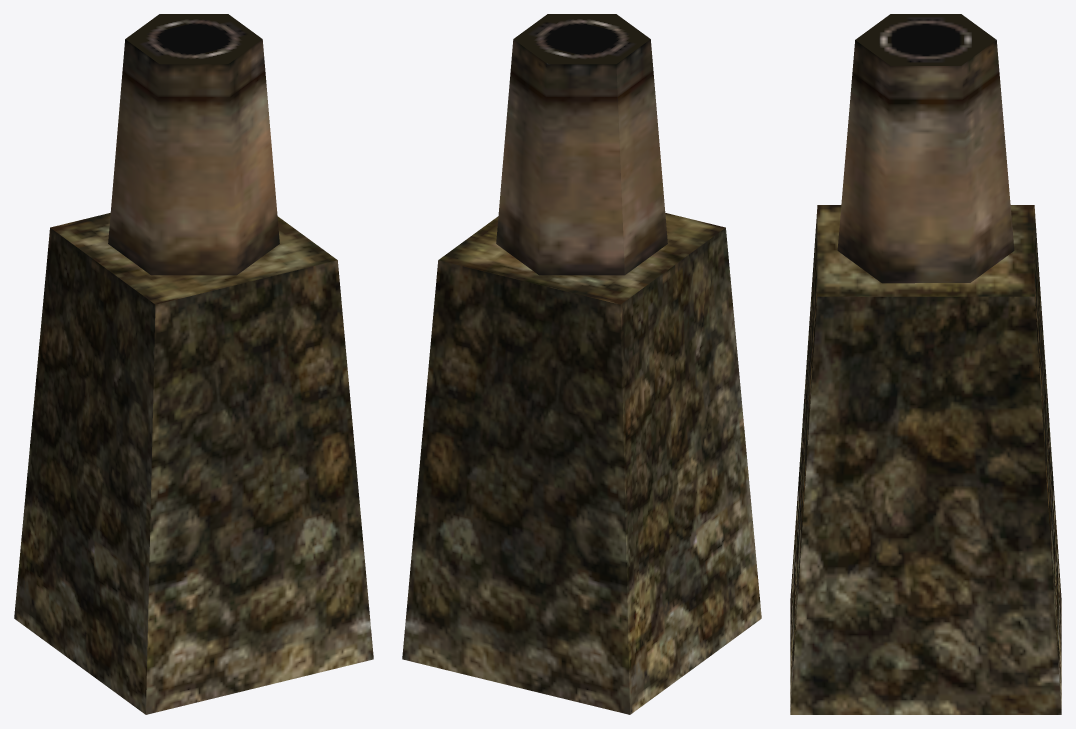
The model's file is hrz91.glb.
3 renders of one model, left to right at view 1: azimuth 30°, elevation 25°; view 2: azimuth 150°, elevation 25°; view 3: azimuth 270°, elevation 25°, orthographic. The views are drawn at different scales.
Parts seen in each view (by area): view 1: hrz91-col; view 2: hrz91-col; view 3: hrz91-col.
Part boxes in pixels (x1,y1,x2,y2): hrz91-col: (14, 14, 373, 714); hrz91-col: (402, 14, 761, 714); hrz91-col: (790, 14, 1061, 714).
Bounding box in the file's own units: 1.2 × 3.02 × 1.2.
3 materials, 3 textured.
